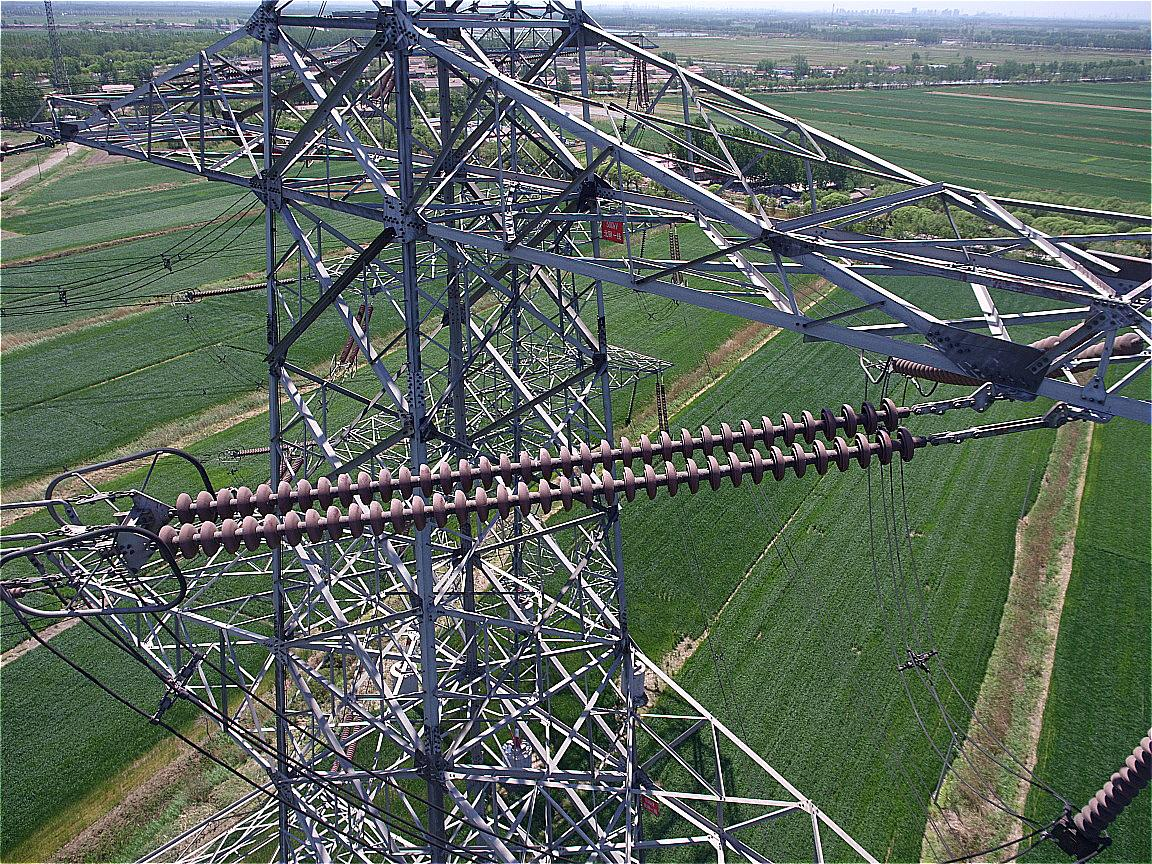insultor1: (157, 398, 913, 563)
